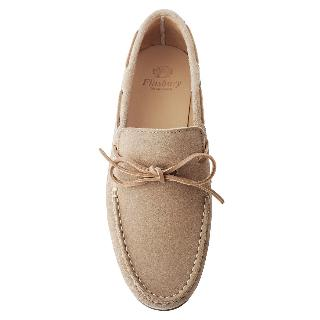loafers: (95, 1, 229, 320)
